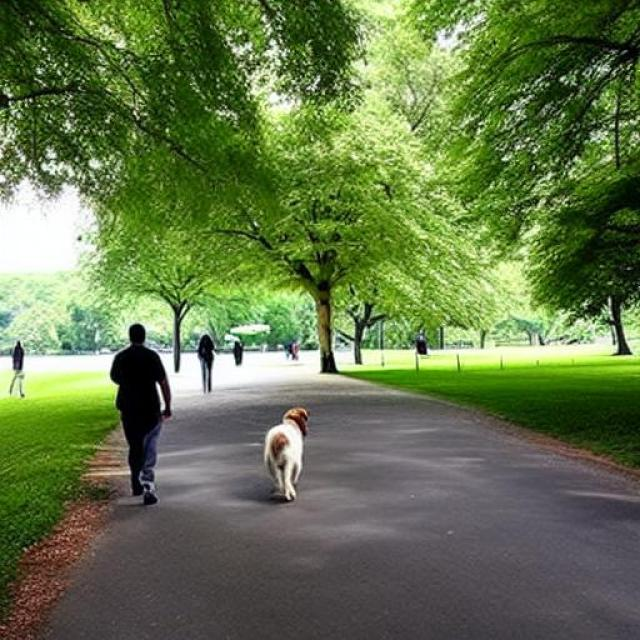Unleashed_Dog: (123, 397, 311, 502)
